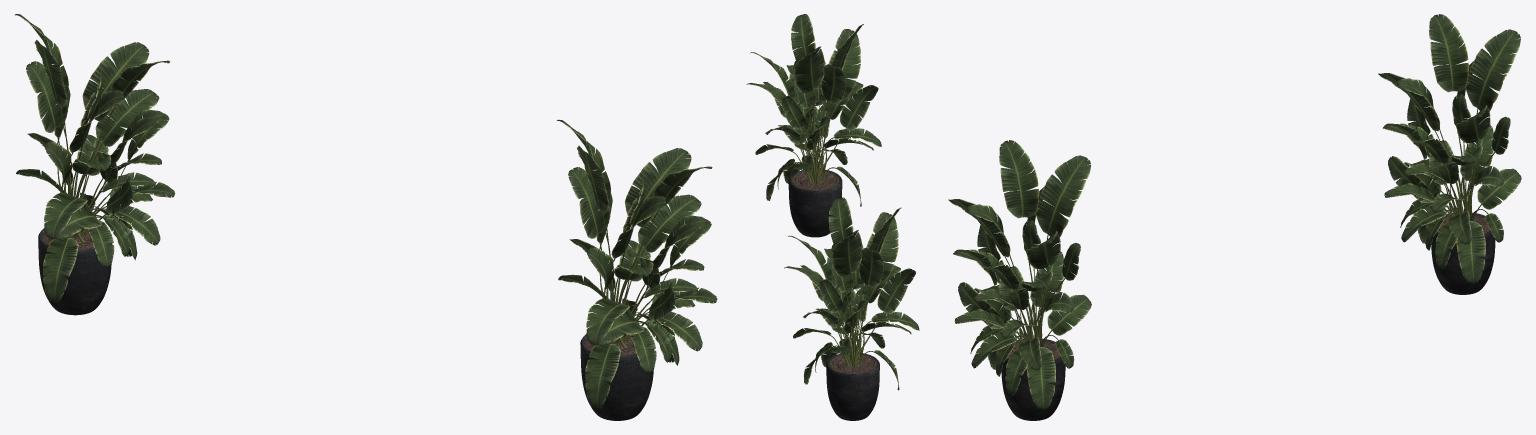
The model's file is Plants_compressed.glb.
The picture shows the model from 3 angles, left to right: view 1: azimuth 30°, elevation 25°; view 2: azimuth 150°, elevation 25°; view 3: azimuth 270°, elevation 25°; orthographic projection. The views are drawn at different scales.
Parts seen in each view (by area): view 1: Banana Plants; view 2: Banana Plants; view 3: Banana Plants.
Part boxes in pixels (x1=…): Banana Plants: x1=15, y1=14, x2=717, y2=420; Banana Plants: x1=746, y1=14, x2=919, y2=420; Banana Plants: x1=948, y1=14, x2=1521, y2=420.
Size of the model in its own units: 8.68 by 5.37 by 11.04.
Materials: 4 (4 with a texture image).
